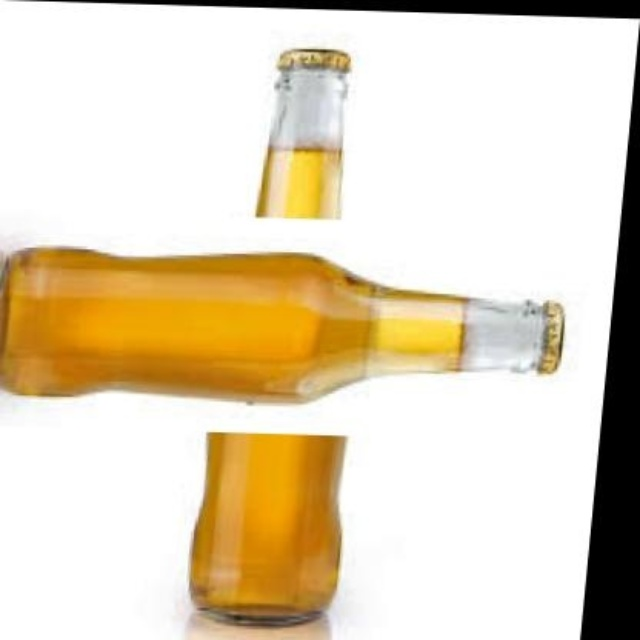trash: (0, 248, 563, 400), (191, 432, 345, 622), (257, 49, 349, 217)
